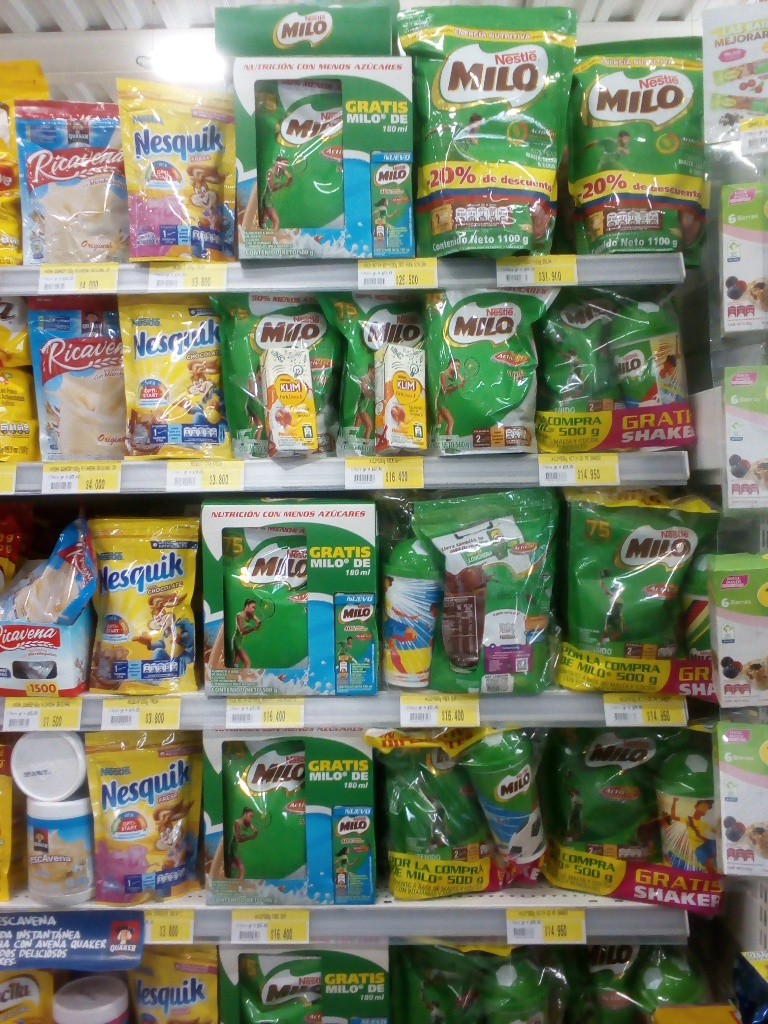COL0170203DYP50000: (547, 291, 618, 452)
COL0170205DYP50000: (258, 76, 350, 229)
COL0170303DYP20000: (115, 296, 229, 459)
COL0170305DYP20000: (113, 77, 239, 267)
